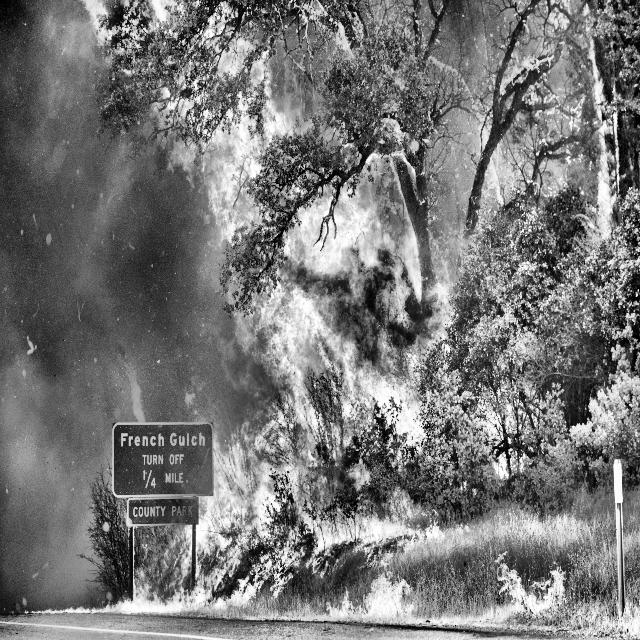fire: (93, 21, 612, 640)
